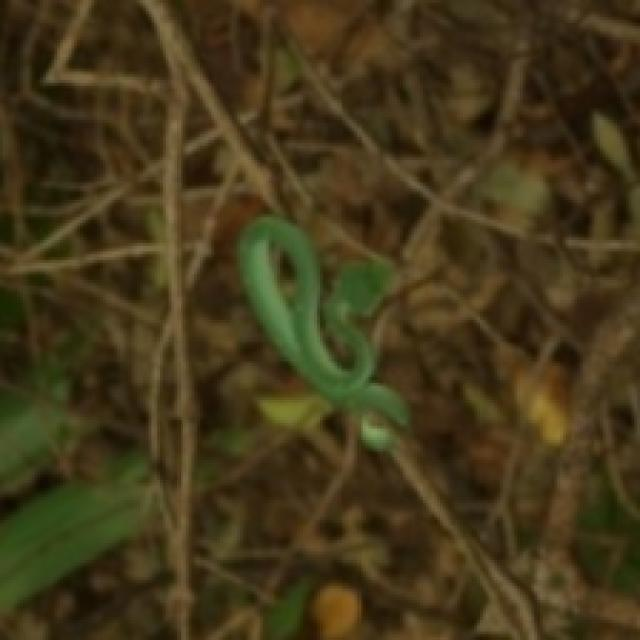north ph temple pitviper: (237, 217, 406, 423)
